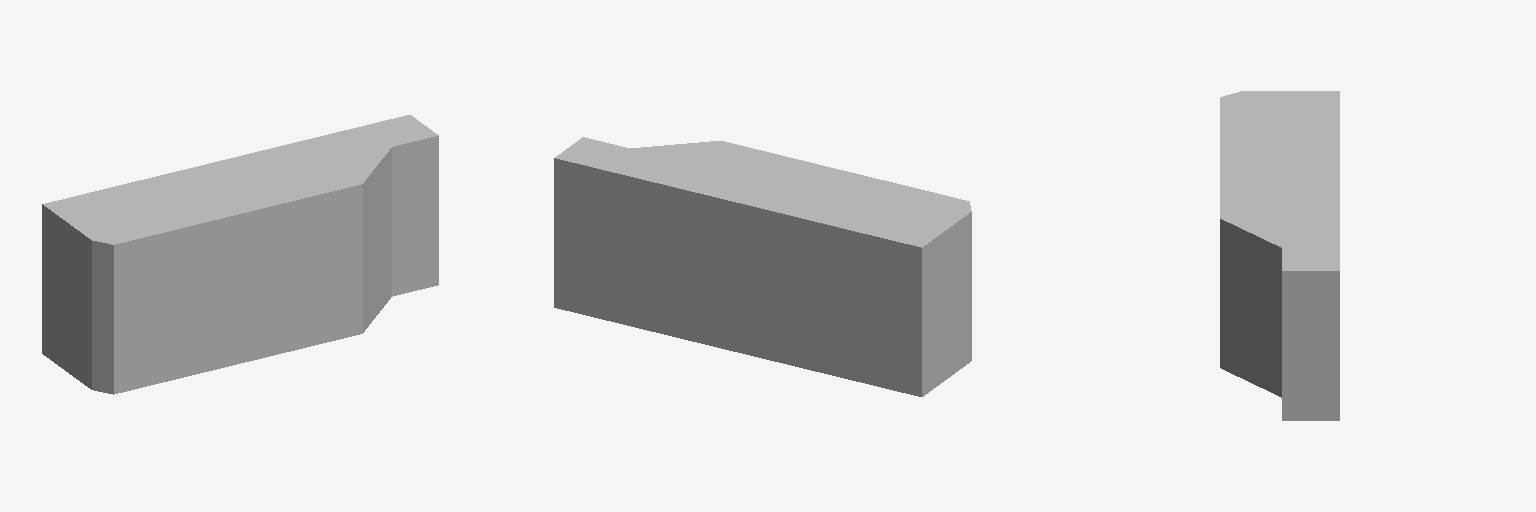
The model's file is vehicle.obj.
3 renders of one model, left to right at view 1: azimuth 30°, elevation 25°; view 2: azimuth 150°, elevation 25°; view 3: azimuth 270°, elevation 25°, orthographic.
Visible parts, largest first — view 1: Cube.001; view 2: Cube.001; view 3: Cube.001.
Boxes of the visible parts, x1,y1,x2,y2 form: Cube.001: [42, 115, 438, 394]; Cube.001: [554, 137, 971, 396]; Cube.001: [1220, 91, 1339, 420].
Bounding box in the file's own units: 15.06 × 5.86 × 4.22.